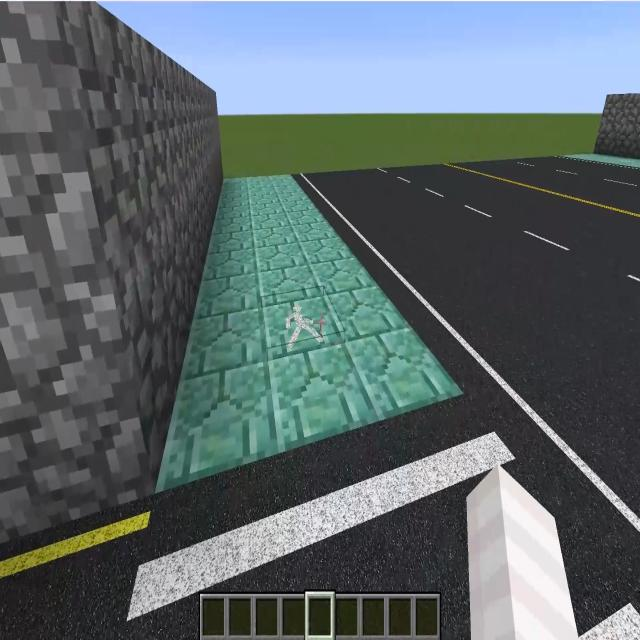crosswalk: (123, 401, 640, 639)
road: (296, 158, 640, 607), (0, 500, 150, 639)
sidewalk: (156, 176, 462, 491), (564, 154, 640, 168)
